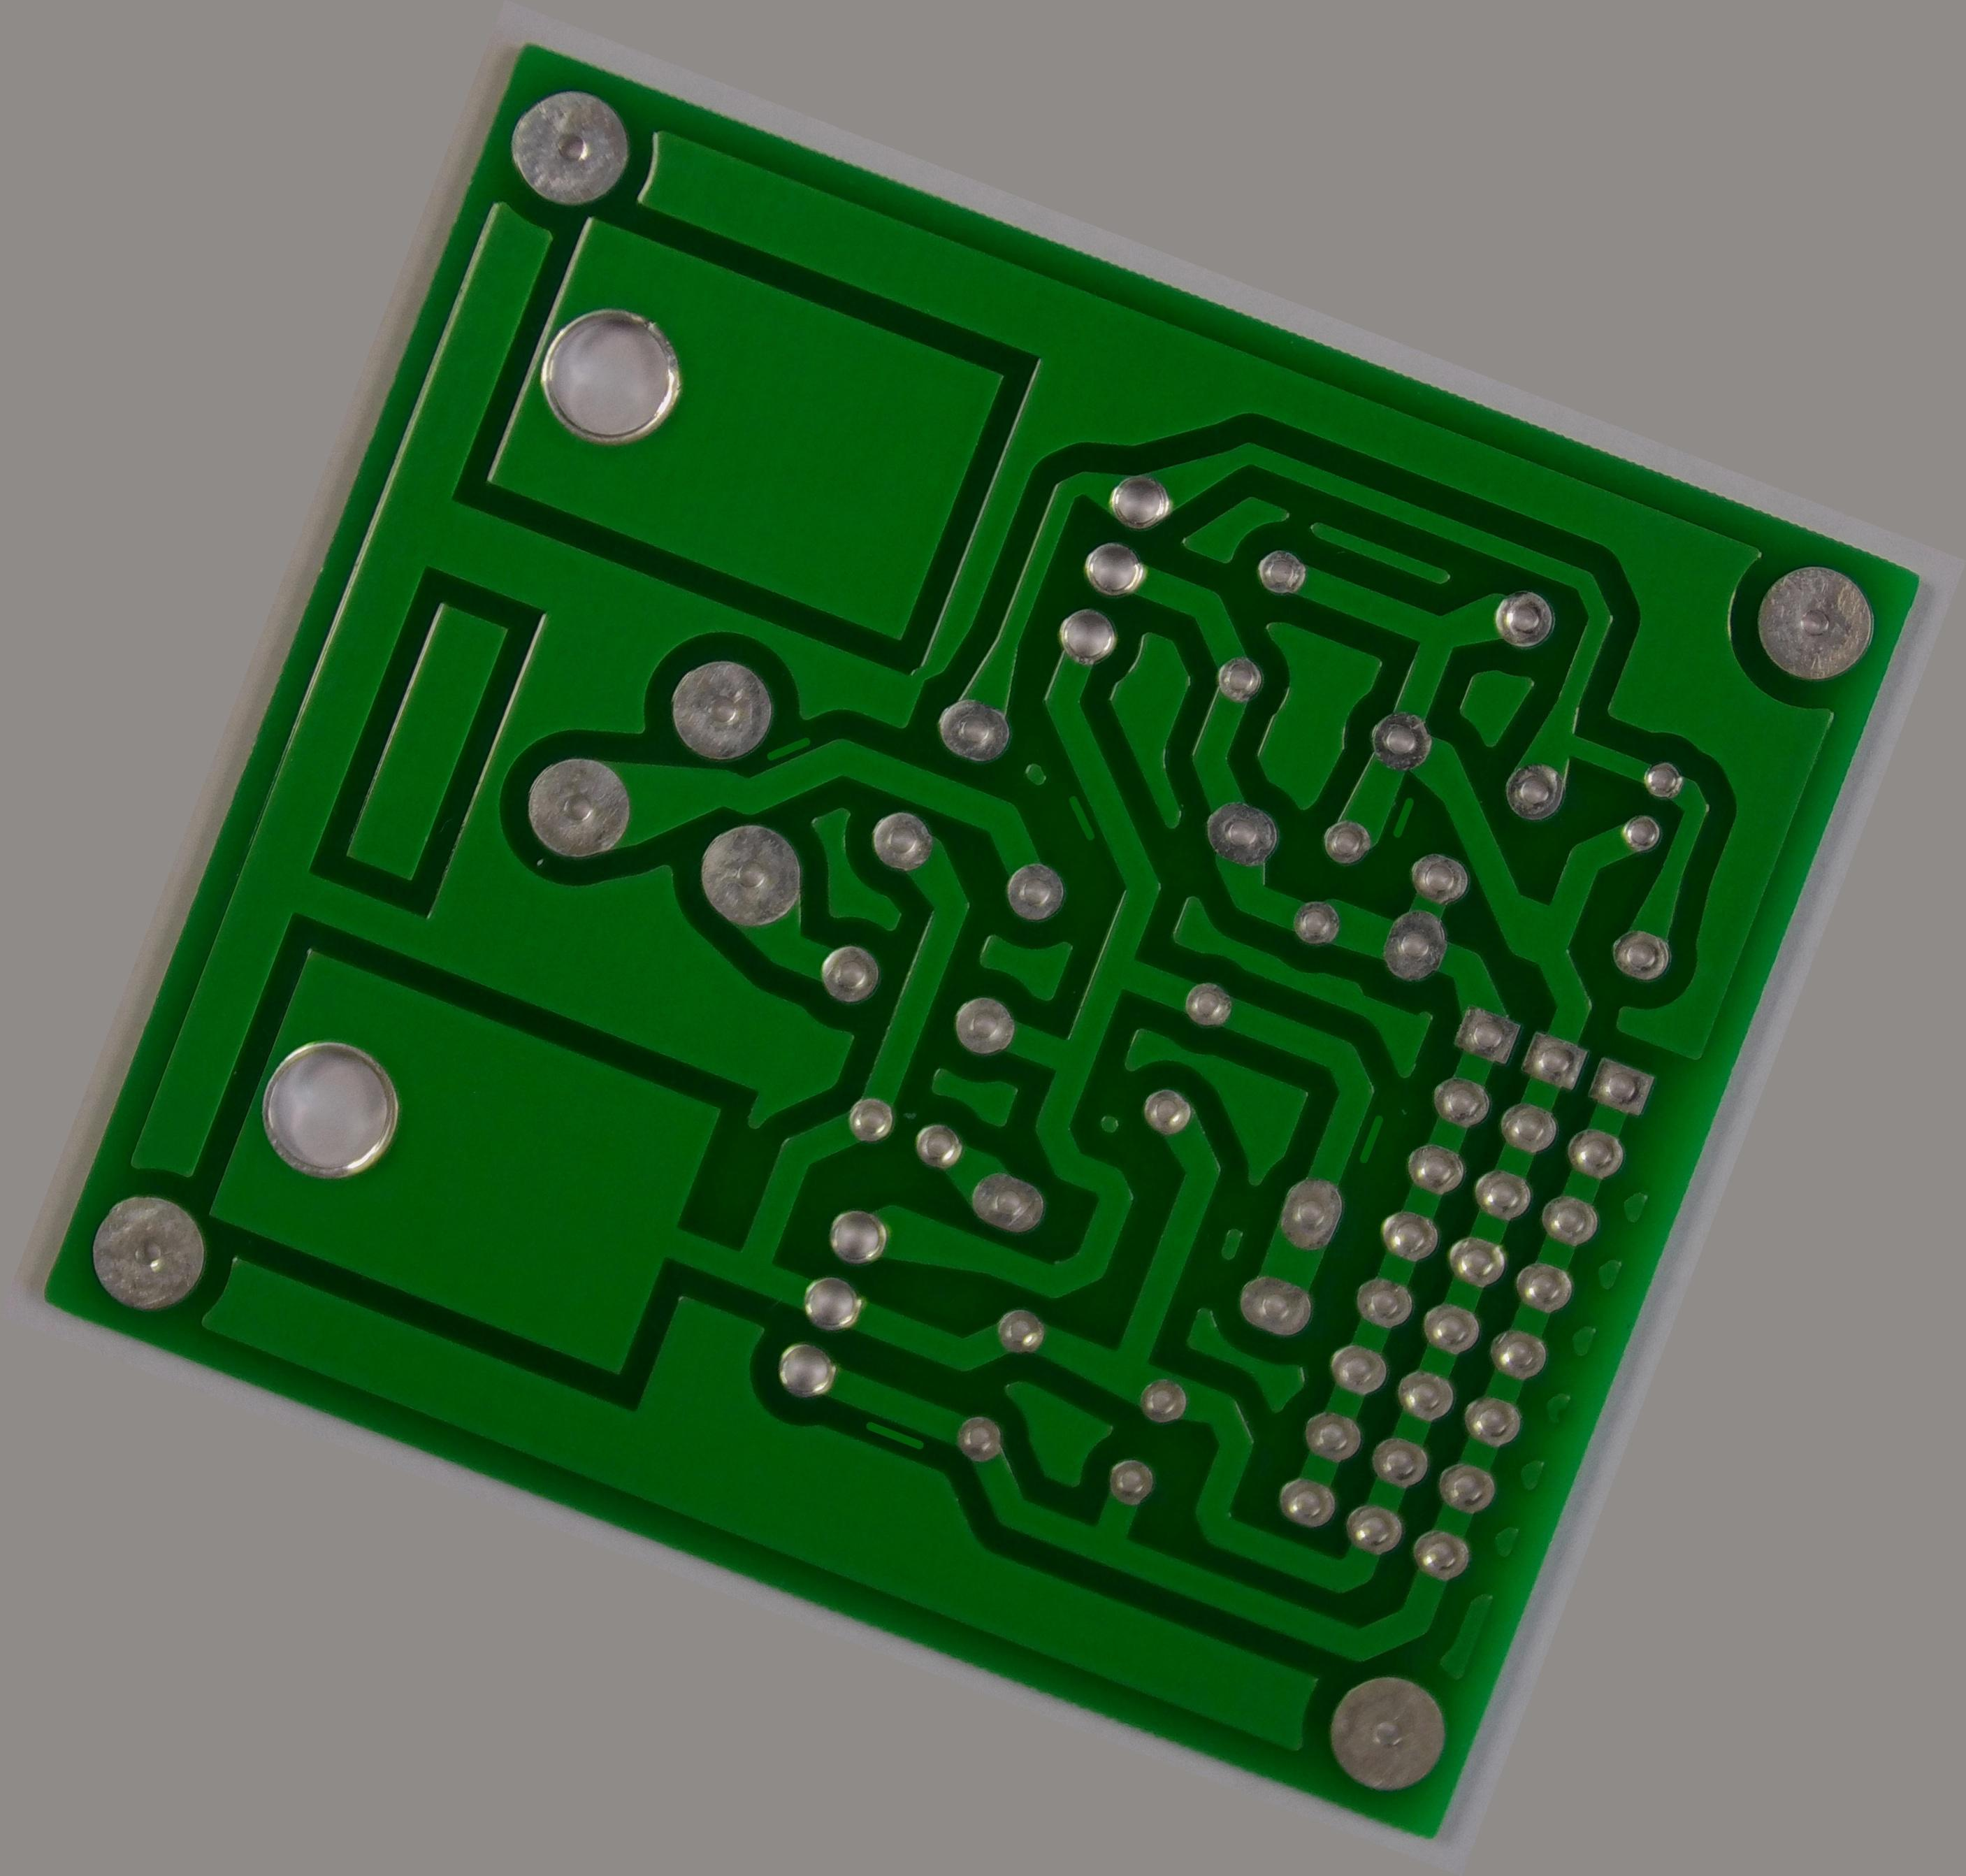spurious_copper: (848, 1406, 937, 1469), (748, 714, 825, 783), (1046, 779, 1113, 849), (1345, 1102, 1403, 1176), (1376, 779, 1427, 846)
